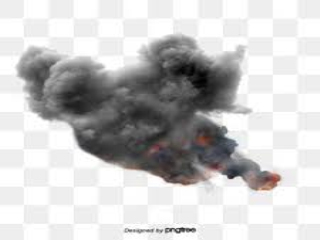smoke: (16, 44, 288, 196)
